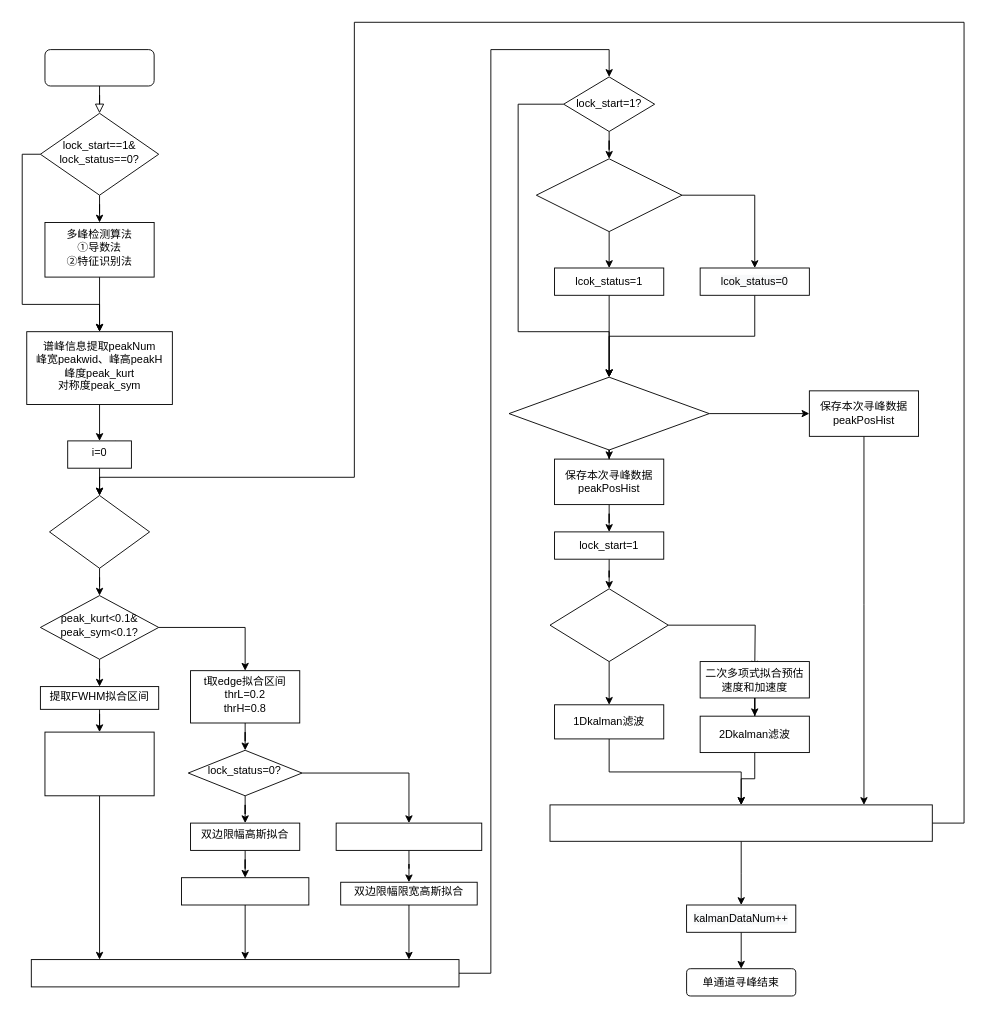
The diagram is 987 pixels wide and 1012 high, and some of its shapes have lost their labels. Each missing label, with the box of its shape:
i<peakNum?: (49, 495, 150, 568)
kalmanDataNum<FITNUM?: (508, 376, 709, 450)
KALMANTYPE=1？: (549, 588, 668, 662)
传统拟合寻峰算法 最大值/3dB/质心 多项式/高斯多项式 高斯LM: (44, 731, 154, 796)
保存MAXAMP、SIGMA: (181, 877, 309, 905)
卡尔曼预测值 kalman_pre: (549, 804, 932, 841)
取MAXAMP和SIGMA均值: (335, 822, 482, 850)
寻峰解调算法: (44, 49, 154, 86)
峰位peakPos 峰高peakH: (30, 959, 459, 987)
是否失锁 kalman_pre-peakPos< lock_region?: (535, 158, 682, 232)
